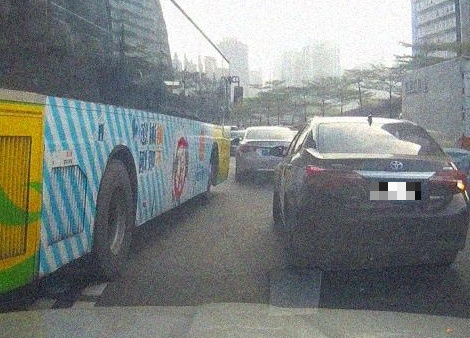L_light: (305, 167, 366, 195)
R_light: (425, 170, 467, 194)
T_light: (373, 148, 398, 155)
day-right: (303, 117, 470, 273)
plate_1: (370, 182, 421, 200)
